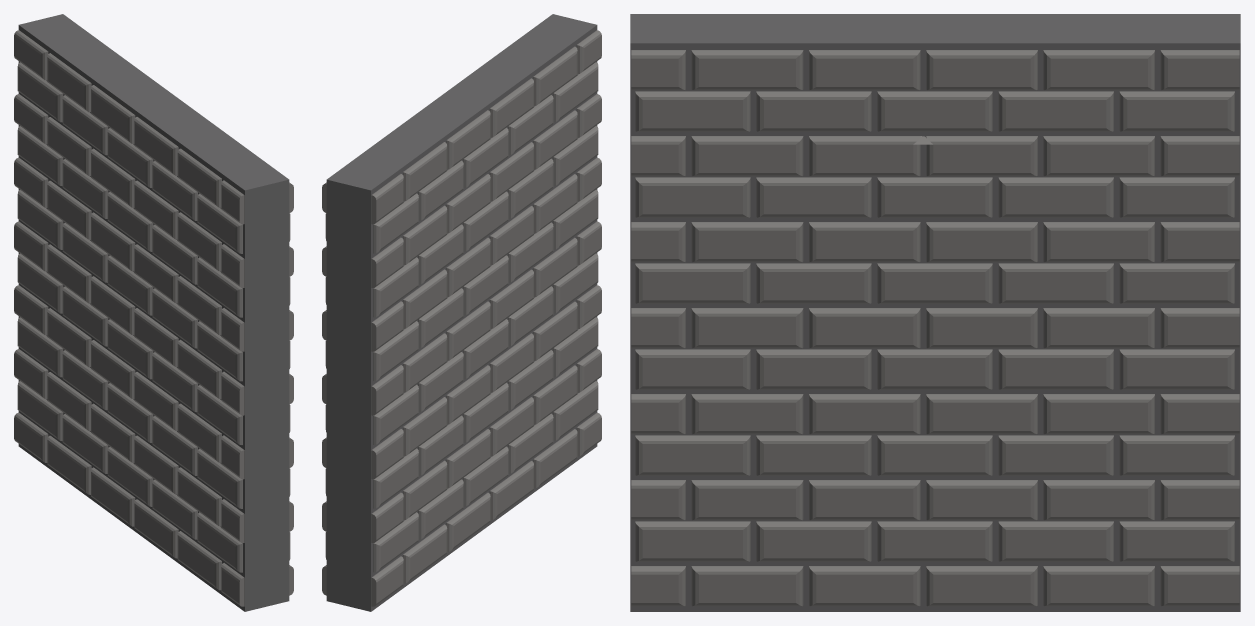
File: broken_FlaskSquare.fbx_floor3.fbx_wall2.fbx
3 views of the same model, side by side, from view 1: azimuth 30°, elevation 25°; view 2: azimuth 150°, elevation 25°; view 3: azimuth 270°, elevation 25° (orthographic). The views are drawn at different scales.
Parts seen in each view (by area): view 1: Cube.007; view 2: Cube.007; view 3: Cube.007.
Part boxes in pixels (x1,y1,x2,y2): Cube.007: [14, 14, 293, 611]; Cube.007: [322, 14, 601, 611]; Cube.007: [630, 14, 1240, 611].
Bounding box in the file's own units: 26.66 × 198 × 193.
